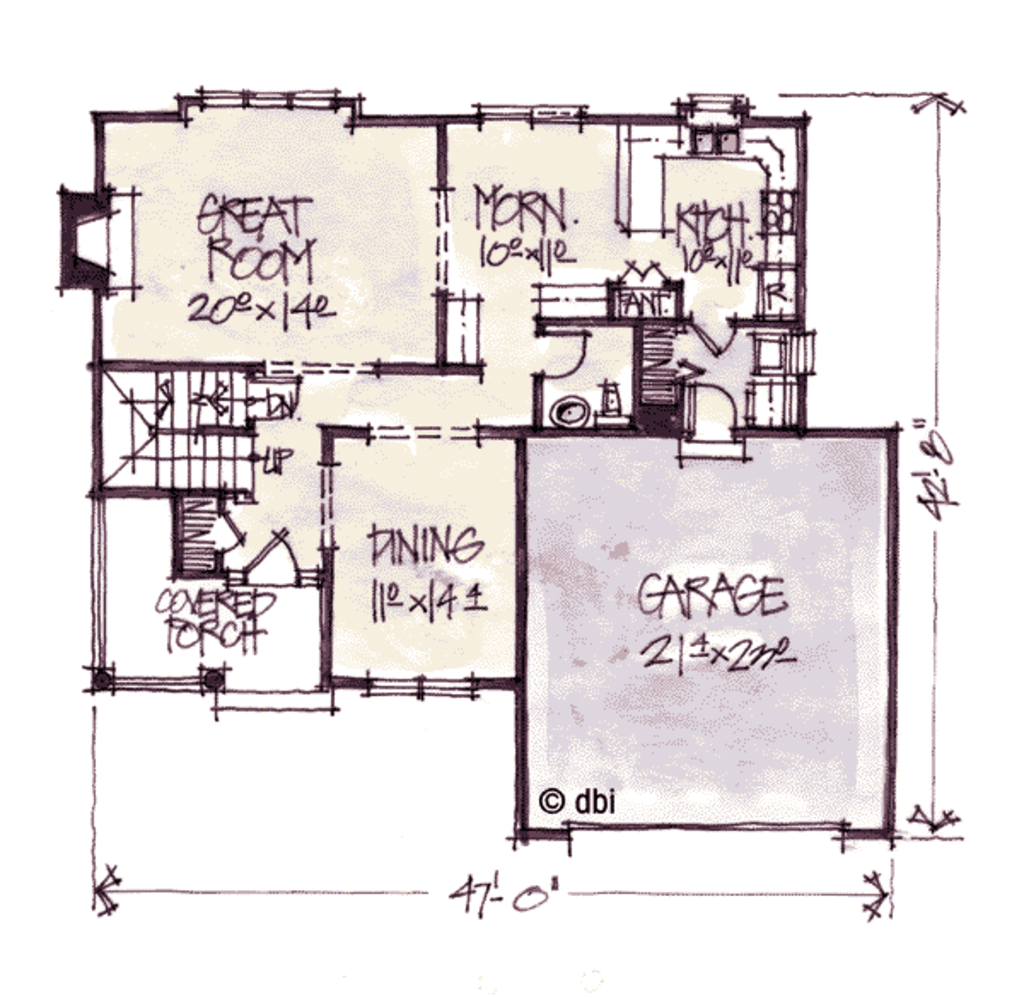door: (686, 376, 746, 467), (535, 323, 603, 386), (237, 521, 292, 590), (206, 512, 254, 566), (691, 310, 732, 355)
large_sink: (592, 383, 631, 432)
small_sink: (542, 383, 597, 430)
stairs: (100, 363, 300, 510)
twin_sink: (688, 113, 752, 170)
window: (205, 84, 351, 121), (368, 673, 485, 704), (478, 98, 591, 130)
